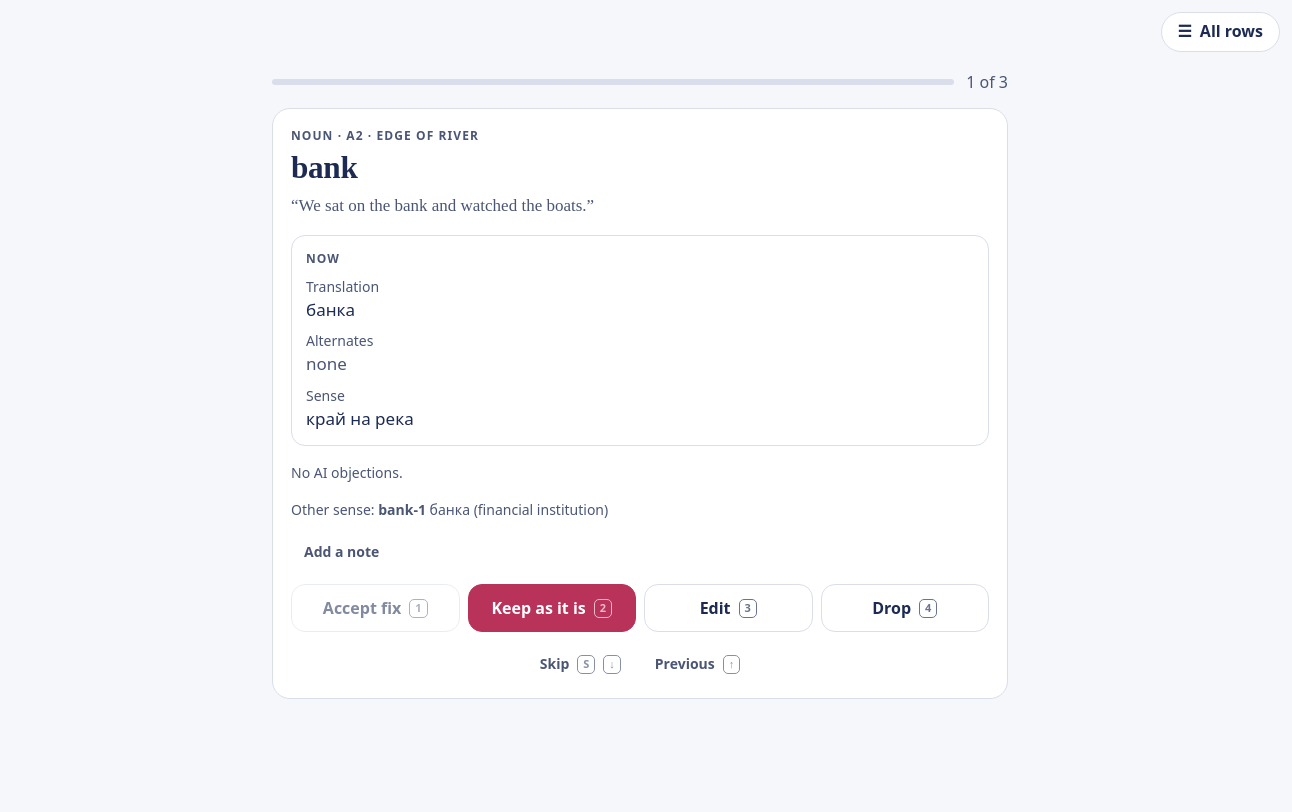
Test case: ReviewScreen › moves to the next undecided row on a swipe to the left and back on one to the right
Press the mouse on the heading "bank" at (324, 168), box x1=291 y1=150 x2=358 y2=185
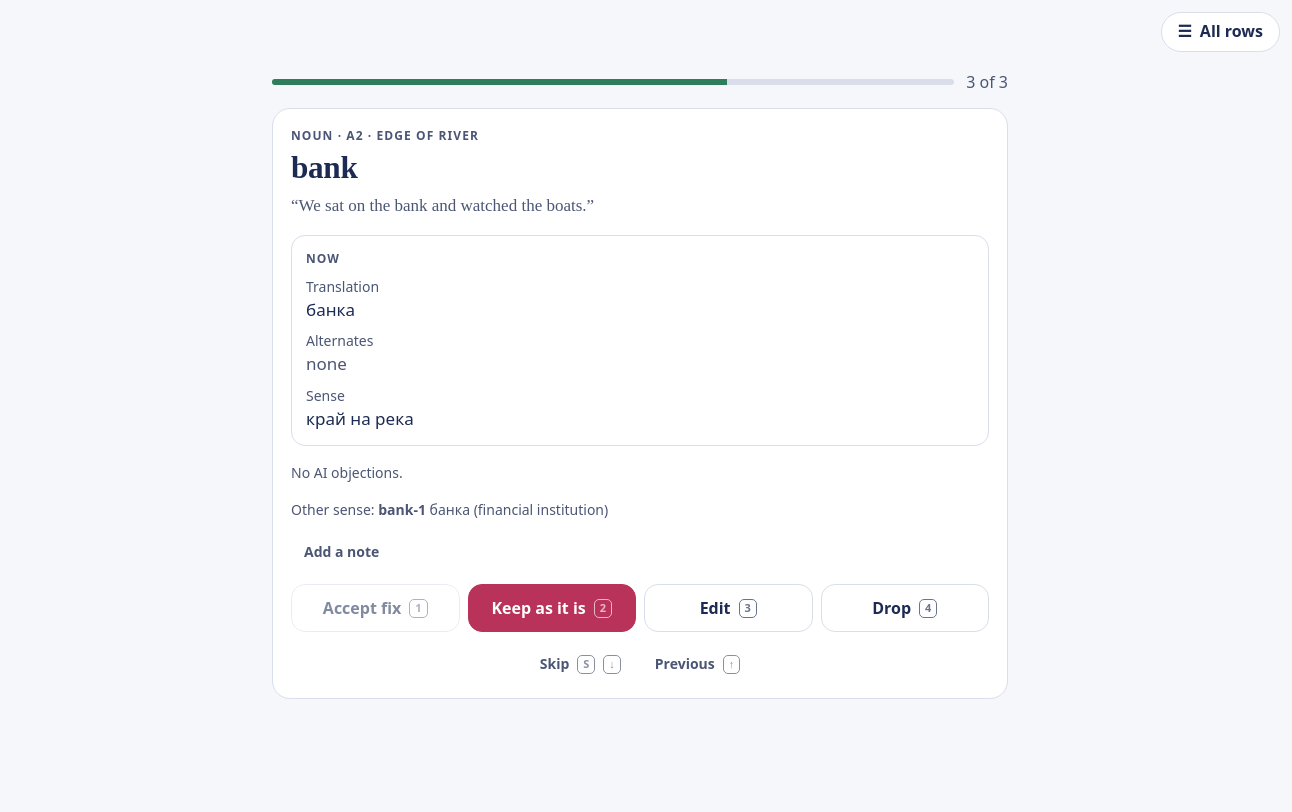
Now the element named "Row c-1" is shown, box x1=272 y1=70 x2=1008 y2=699
Press the mouse on the heading "bank" at (324, 168), box x1=291 y1=150 x2=358 y2=185
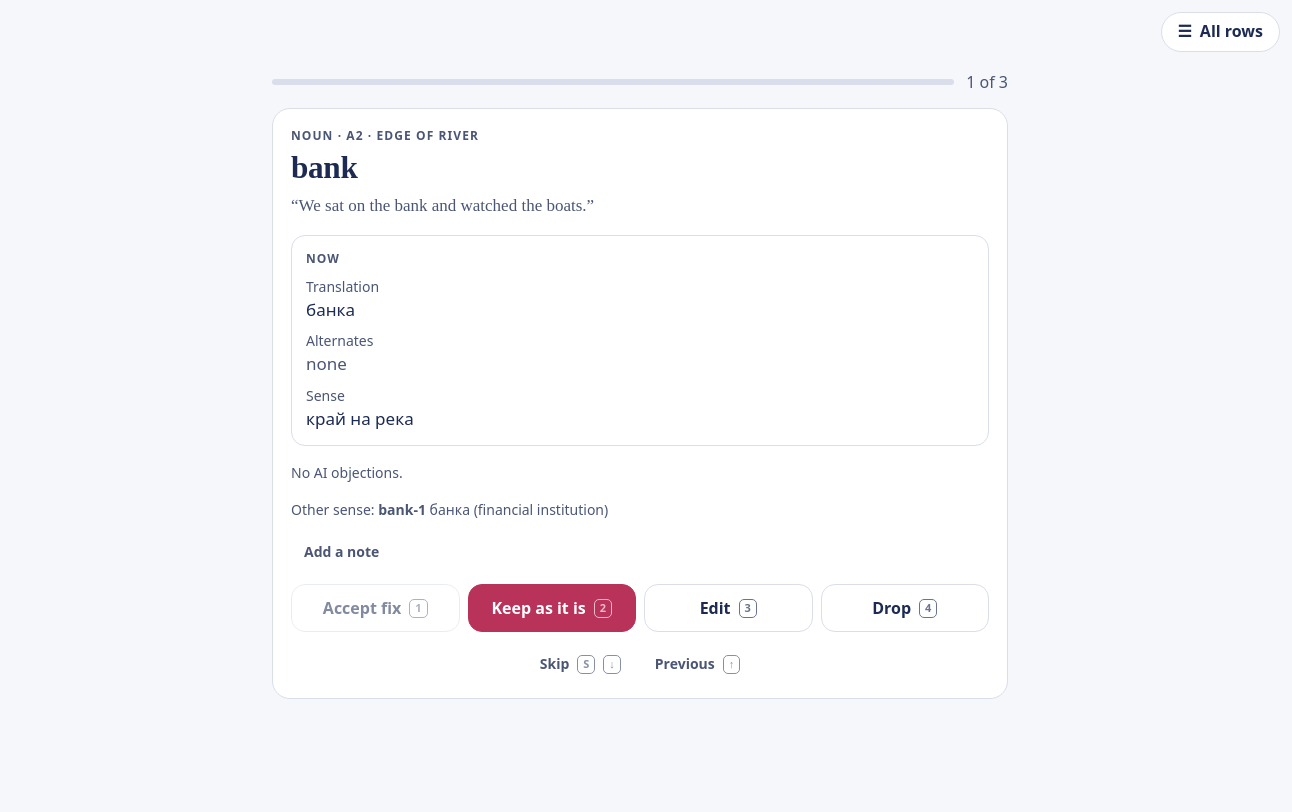
Now the element named "Row a-1" is shown, box x1=272 y1=70 x2=1008 y2=699
